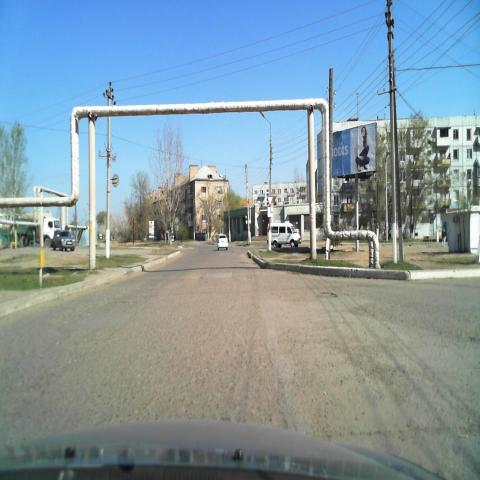2_4: (267, 196, 273, 206)
8_13: (268, 207, 274, 218)
